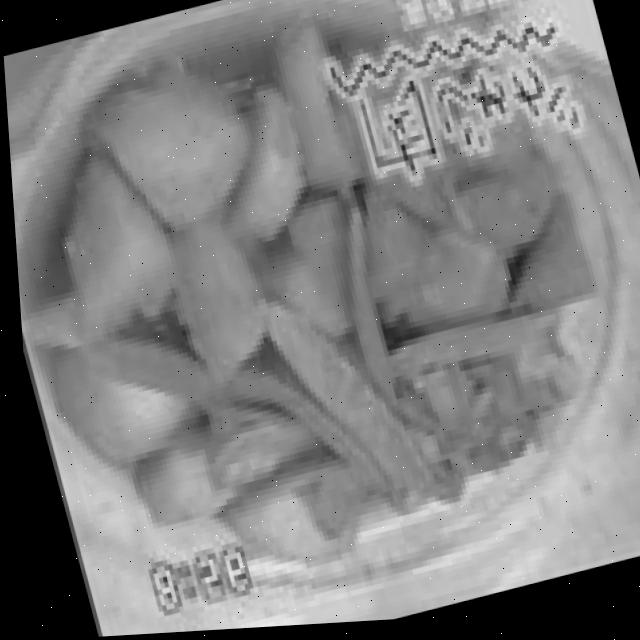牛肉菜式: (2, 10, 434, 582)
